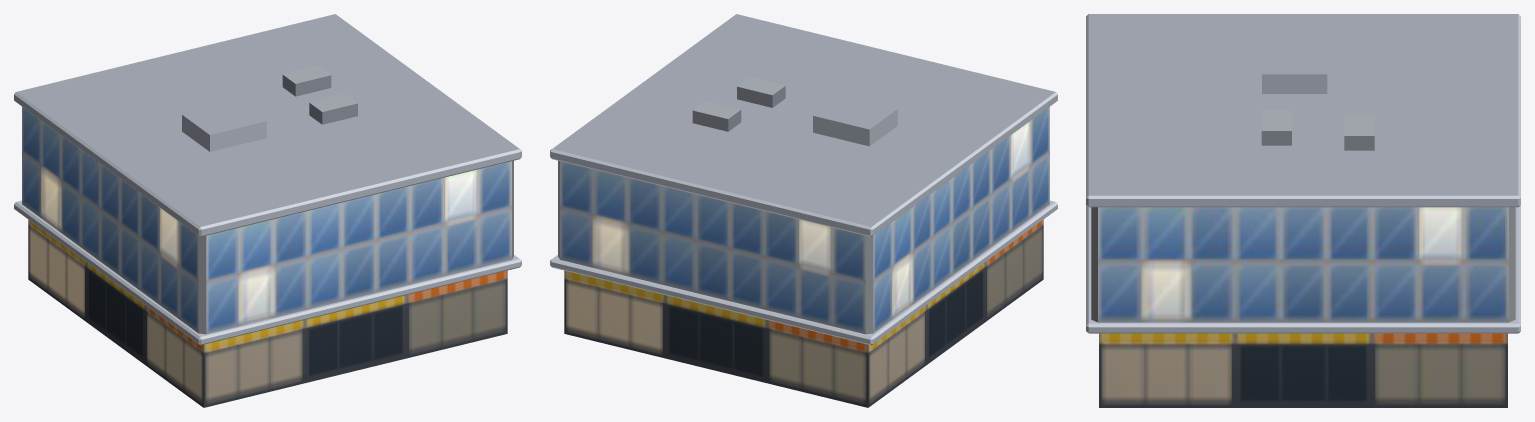
The model's file is building-20x20x12.glb.
The picture shows the model from 3 angles, left to right: view 1: azimuth 30°, elevation 25°; view 2: azimuth 150°, elevation 25°; view 3: azimuth 270°, elevation 25°; orthographic projection. The views are drawn at different scales.
Parts seen in each view (by area): view 1: building-20x20x12; view 2: building-20x20x12; view 3: building-20x20x12.
Boxes of the visible parts, box(x1,y1,x2,y2) form: building-20x20x12: box(14, 14, 521, 407); building-20x20x12: box(550, 14, 1057, 407); building-20x20x12: box(1086, 14, 1520, 407).
Size of the model in its own units: 20 by 12 by 20.
Materials: 1 (1 with a texture image).
